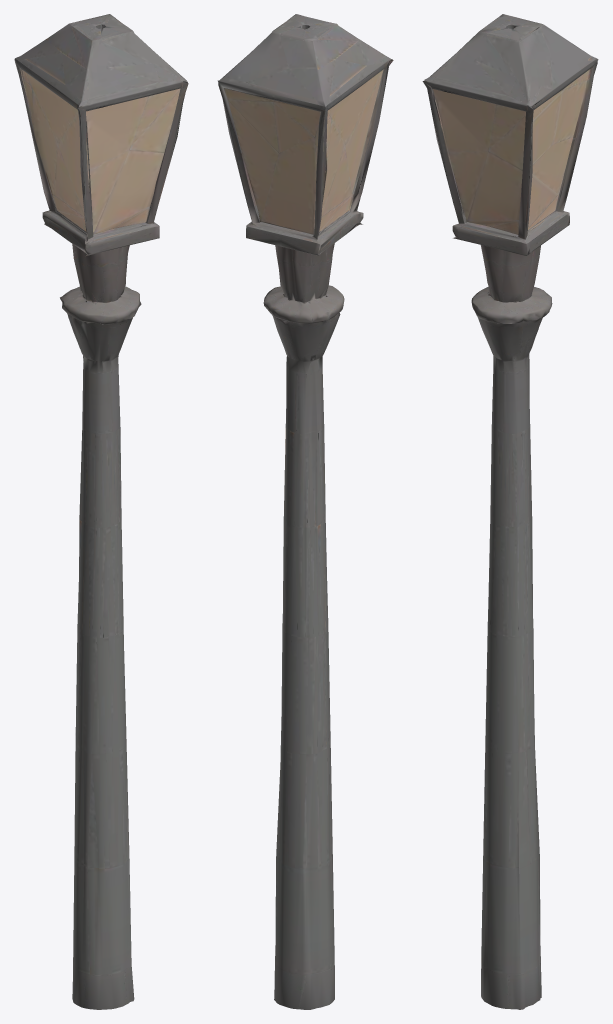
File: lamp.glb
3 views of the same model, side by side, from view 1: azimuth 30°, elevation 25°; view 2: azimuth 150°, elevation 25°; view 3: azimuth 330°, elevation 25° (orthographic).
Visible parts, largest first — view 1: geometry_0; view 2: geometry_0; view 3: geometry_0.
Part boxes in pixels (x1,y1,x2,y2): geometry_0: (14, 14, 188, 1009); geometry_0: (217, 14, 393, 1009); geometry_0: (422, 14, 598, 1009).
Size of the model in its own units: 0.1138 by 0.9512 by 0.1167.
1 material, 1 textured.
